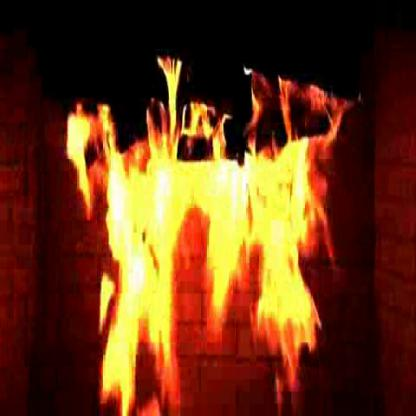Fire: (104, 174, 310, 400)
